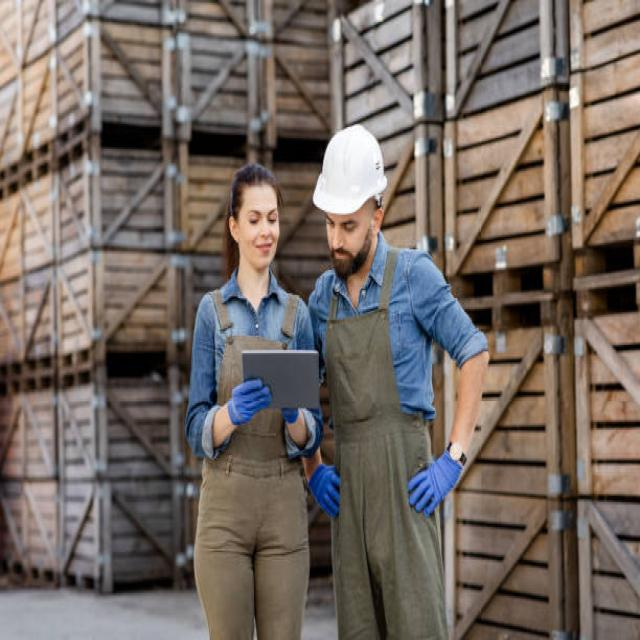Gloves: (406, 444, 467, 519), (225, 373, 275, 428), (307, 452, 344, 520)
helmet: (312, 123, 388, 217)
person: (302, 122, 490, 640), (177, 164, 317, 640)
